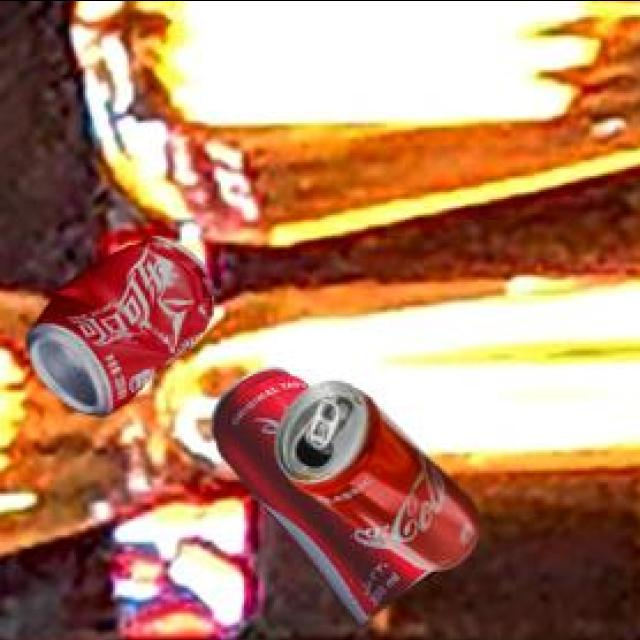logam: (215, 363, 436, 618), (280, 379, 482, 563), (31, 231, 218, 411)
